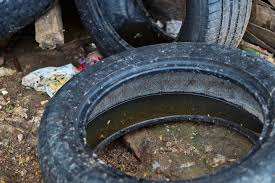tire: (39, 43, 275, 182), (74, 1, 253, 59)
